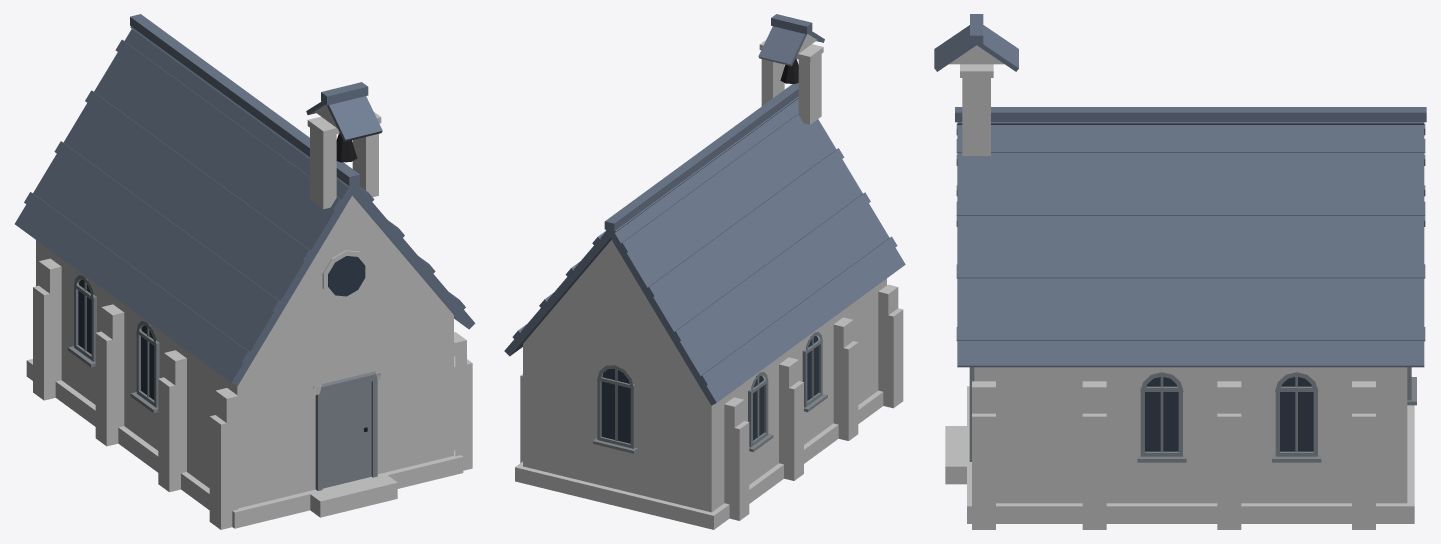
Rendered from chapel.gltf.
3 views of the same model, side by side, from view 1: azimuth 30°, elevation 25°; view 2: azimuth 150°, elevation 25°; view 3: azimuth 270°, elevation 25° (orthographic). The views are drawn at different scales.
Visible parts, largest first — view 1: chapel; view 2: chapel; view 3: chapel.
Part boxes in pixels (x1,y1,x2,y2): chapel: (15,14,475,529); chapel: (504,14,905,529); chapel: (934,14,1426,529).
Size of the model in its own units: 6.5 by 10.07 by 10.23.
